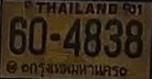0: (29, 17, 47, 55)
3: (104, 18, 123, 57)
4: (63, 17, 81, 56)
6: (9, 16, 26, 54)
8: (83, 18, 101, 57), (124, 19, 142, 57)
BKK: (28, 60, 122, 78)
